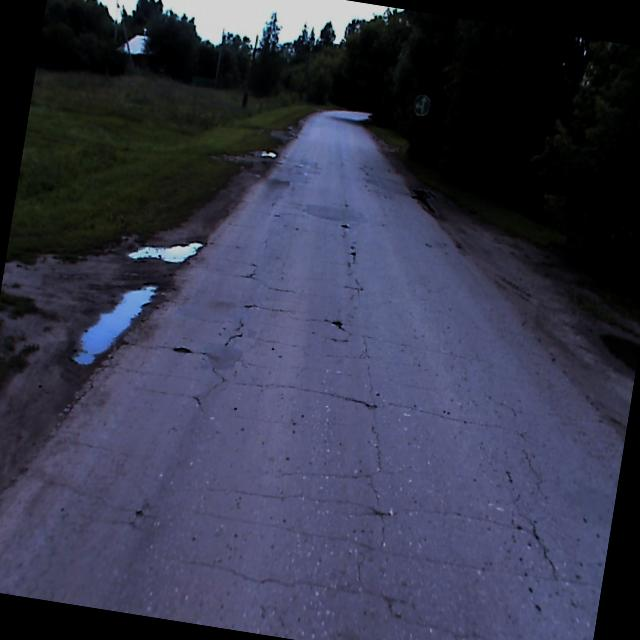road: (0, 116, 624, 640)
